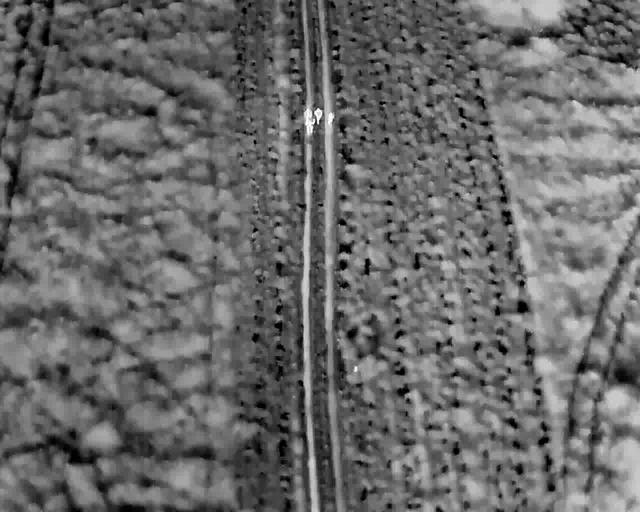person: (303, 141, 315, 160), (302, 128, 314, 146), (314, 128, 324, 149), (326, 130, 336, 149)
